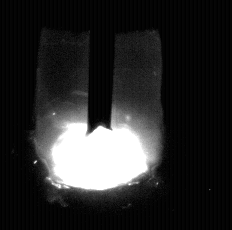arame: (88, 0, 113, 136)
poca: (35, 0, 163, 230)
